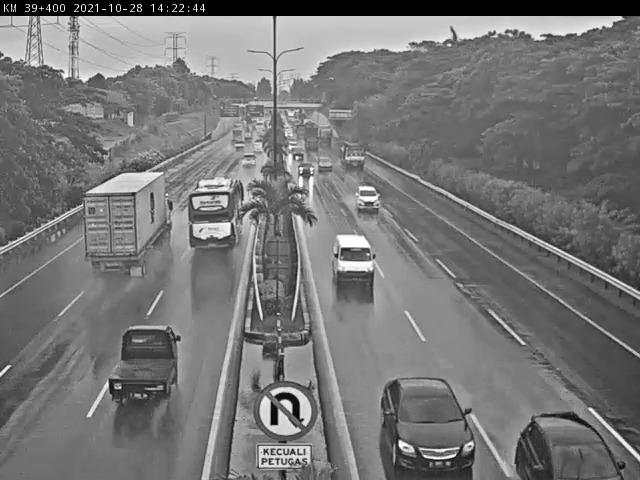big bus: (181, 169, 254, 262)
big truck: (67, 172, 178, 284), (337, 141, 366, 170)
car: (373, 372, 478, 477), (97, 318, 186, 411), (523, 389, 611, 480), (326, 228, 377, 290), (350, 182, 387, 216), (238, 154, 255, 173), (297, 158, 313, 176), (317, 155, 333, 170), (289, 144, 304, 159), (251, 141, 267, 155)
